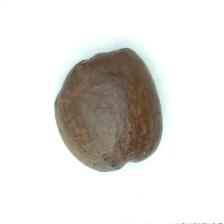NG: (49, 45, 130, 99)
